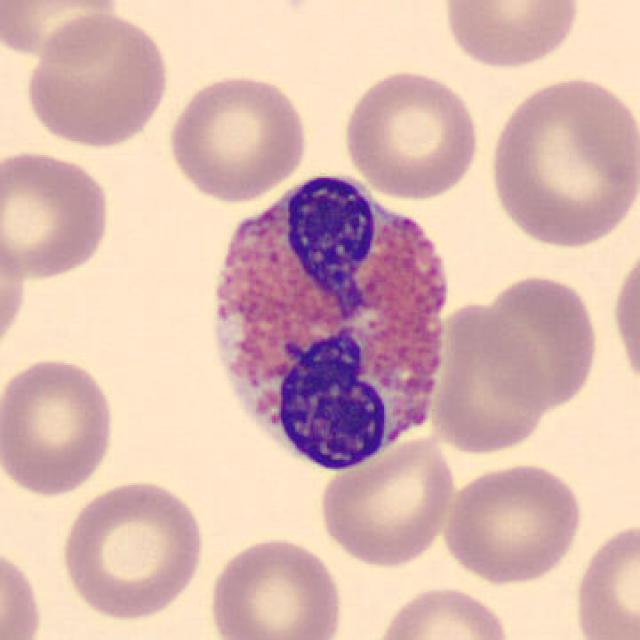Eosinophil: (194, 155, 462, 487)
RBC: (484, 71, 638, 252), (55, 476, 210, 622), (20, 7, 174, 150), (314, 430, 458, 570), (427, 298, 551, 458), (164, 70, 311, 204), (339, 65, 482, 201), (439, 459, 587, 587), (477, 270, 602, 414), (0, 353, 119, 499), (0, 146, 116, 284), (205, 532, 346, 640), (437, 0, 584, 72), (370, 582, 516, 640), (570, 516, 638, 640), (0, 0, 121, 63), (608, 236, 640, 395), (0, 541, 46, 640), (0, 212, 30, 363)
